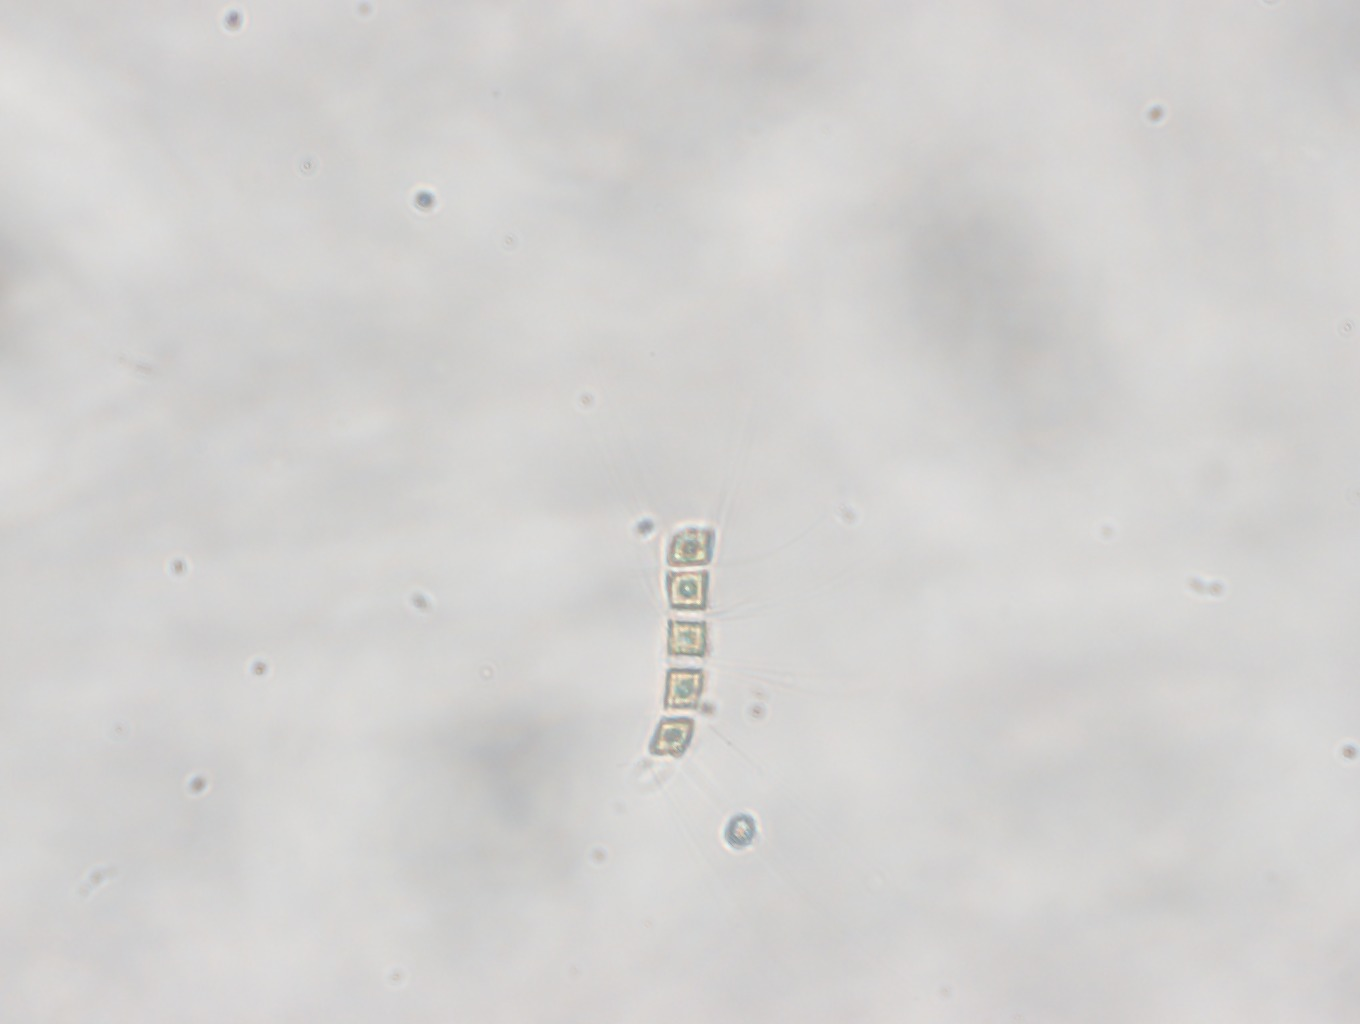chaetoceros: (578, 480, 818, 800)
